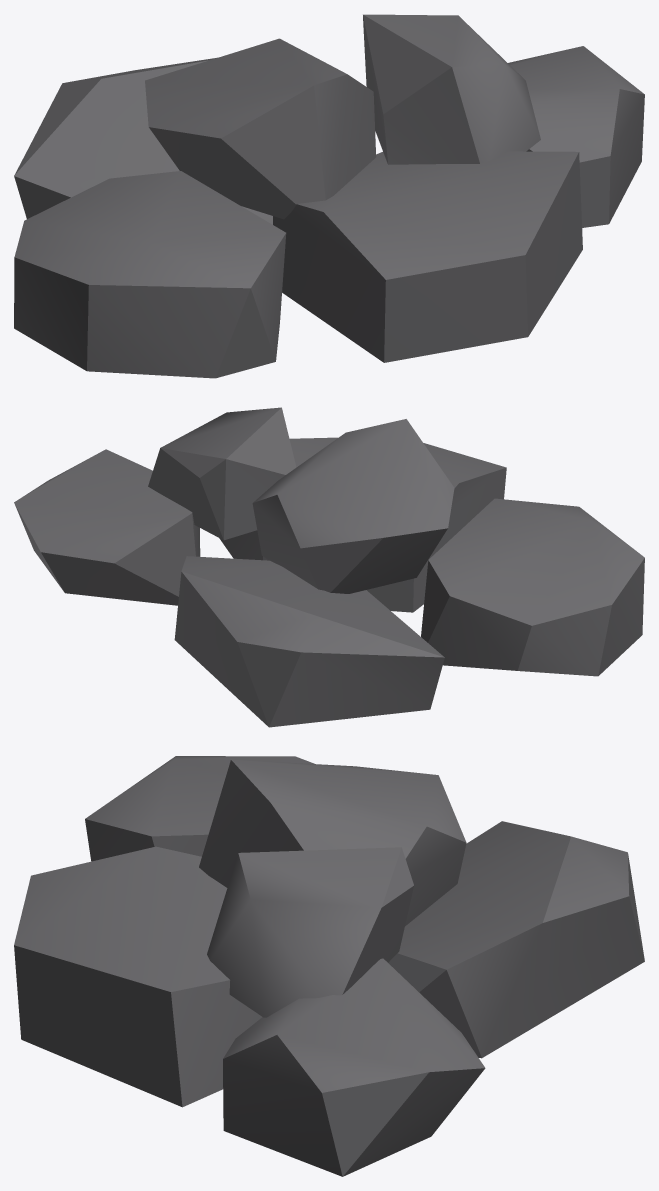
File: Stone_07.fbx
3 views of the same model, one above another, from view 1: azimuth 30°, elevation 25°; view 2: azimuth 150°, elevation 25°; view 3: azimuth 270°, elevation 25° (orthographic). The views are drawn at different scales.
Visible parts, largest first — view 1: Stone_07; view 2: Stone_07; view 3: Stone_07.
Part boxes in pixels (box(x1,y1,x2,y2)): Stone_07: box(14, 14, 644, 378); Stone_07: box(14, 407, 644, 727); Stone_07: box(14, 756, 644, 1176).
Size of the model in its own units: 187 by 56.95 by 148.
